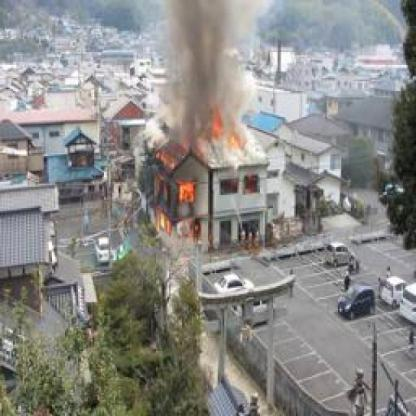fire: (154, 153, 196, 242)
